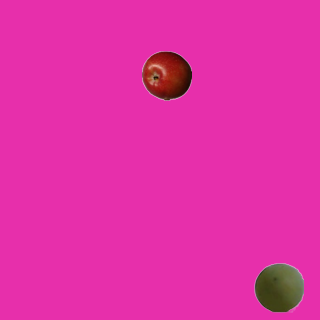Apple Braeburn: (141, 50, 191, 100)
Grape White 4: (253, 262, 303, 312)
